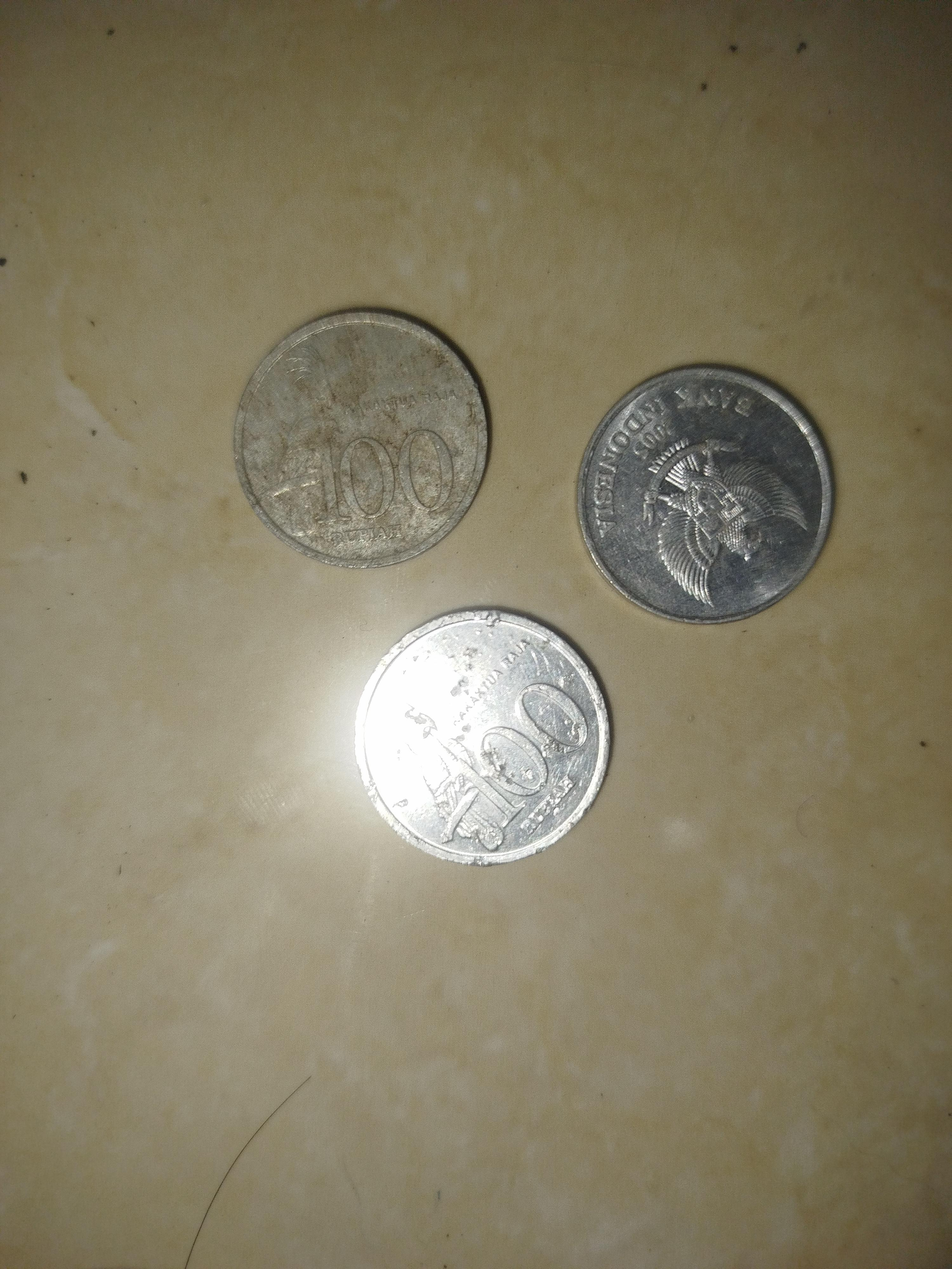coin_100_e1999: (324, 600, 636, 869), (574, 337, 842, 633), (235, 299, 496, 567)
